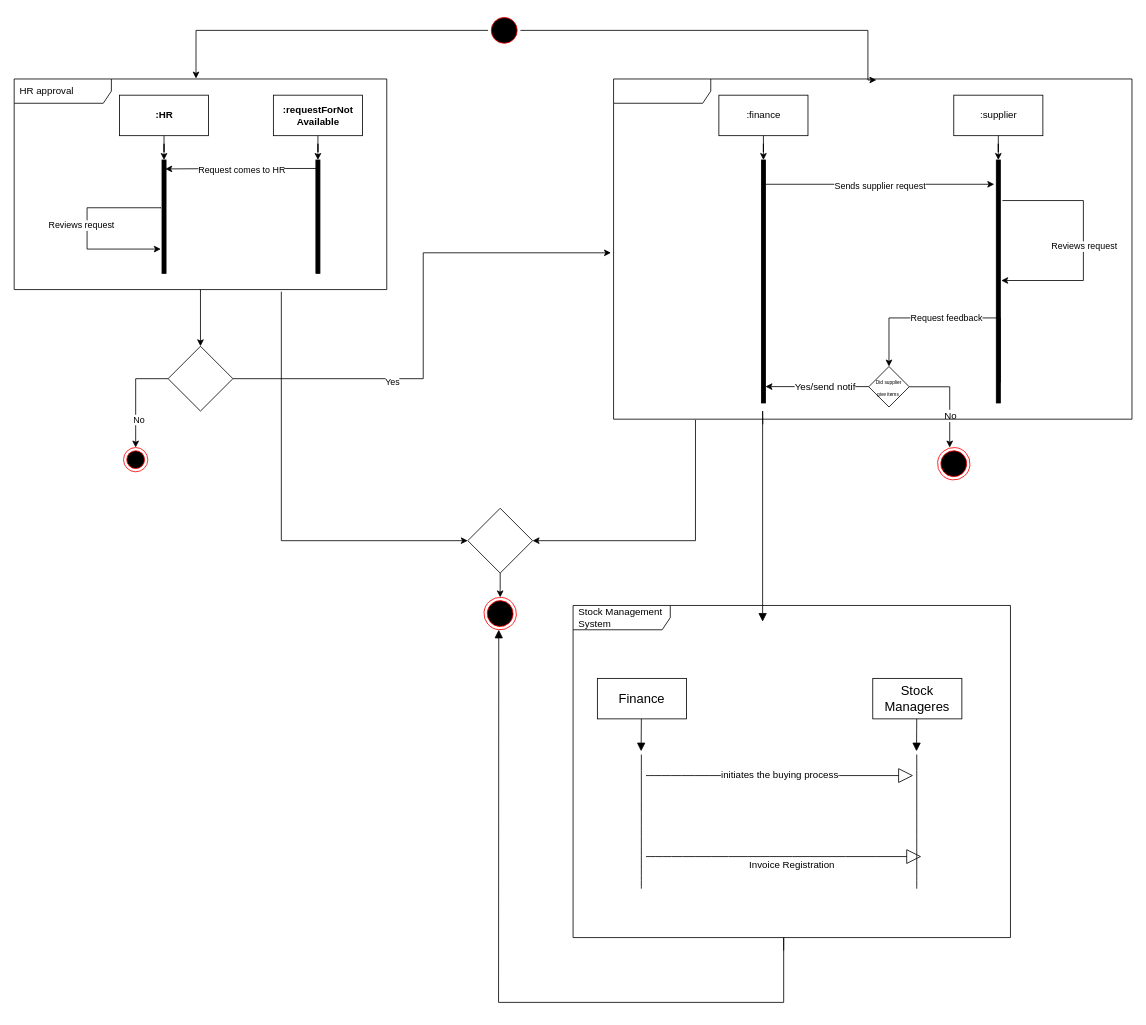
The diagram is 1146 pixels wide and 1025 high, and some of its shapes have lost their labels. Here are the shapes that lost their labels. From the top down, the centre of each, then its label:
the point at 872,248: Finance buying items
the point at 200,378: Did the HR approve
the point at 500,540: Print PDF with bought items
